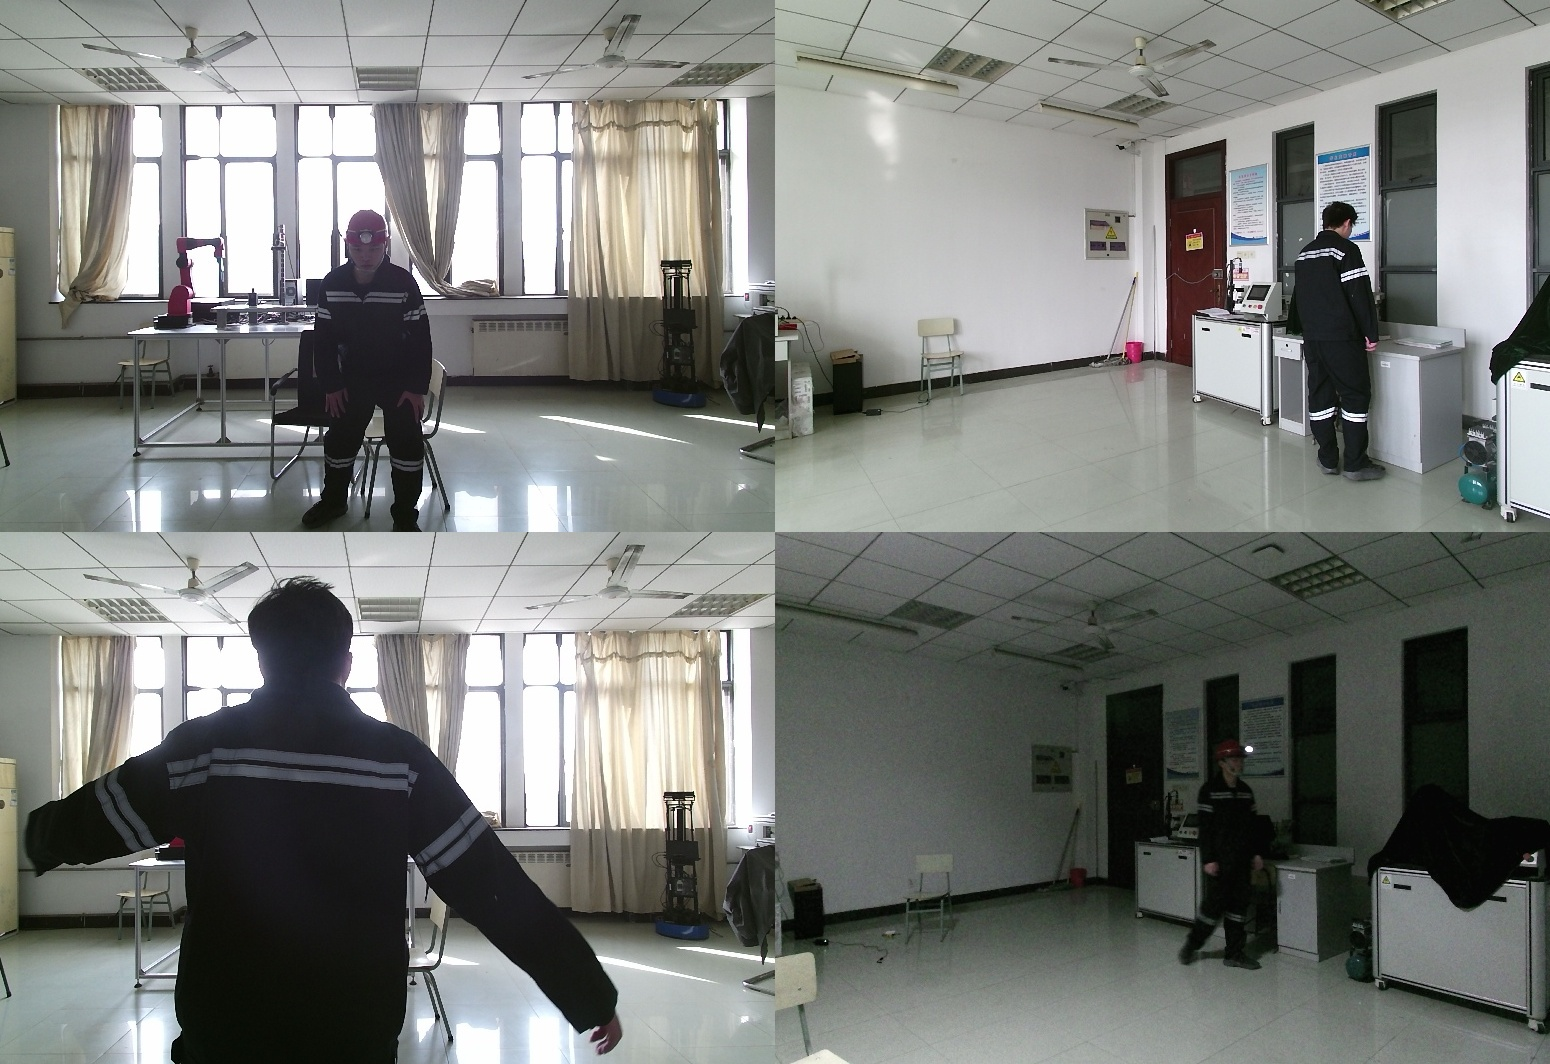person: (28, 583, 618, 1064), (308, 211, 451, 532), (1290, 204, 1390, 487), (1178, 738, 1261, 971)
